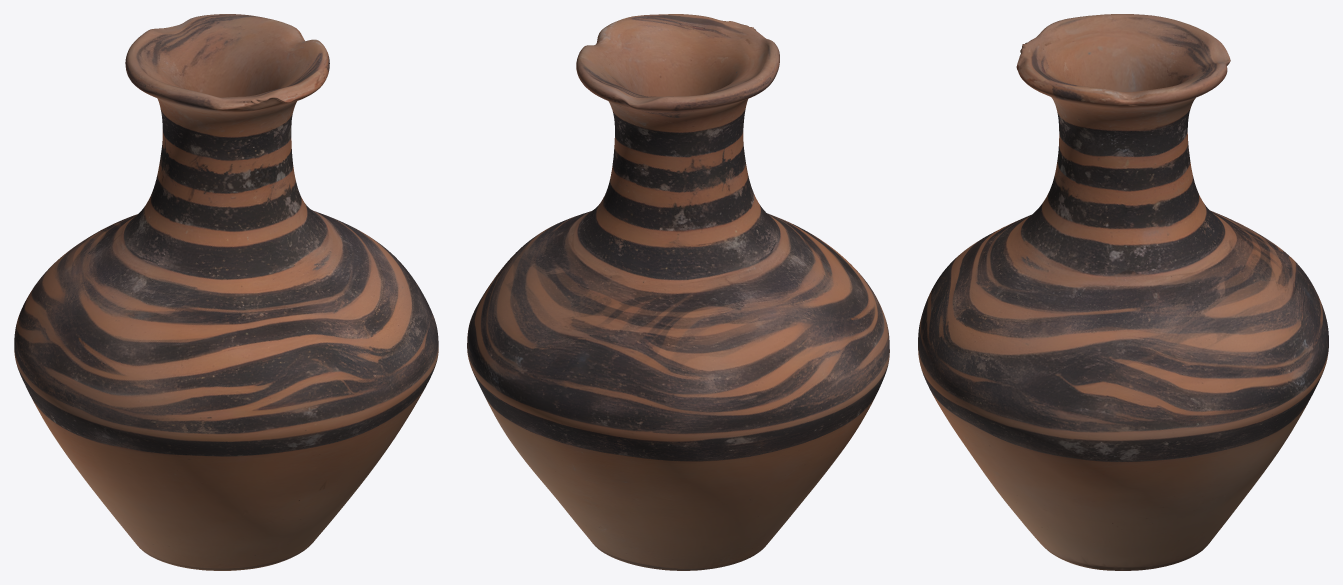
Rendered from shuibowencaitaopingB.glb.
3 renders of one model, left to right at view 1: azimuth 30°, elevation 25°; view 2: azimuth 150°, elevation 25°; view 3: azimuth 270°, elevation 25°, orthographic.
Parts seen in each view (by area): view 1: node_0; view 2: node_0; view 3: node_0.
Boxes of the visible parts, x1,y1,x2,y2 form: node_0: [14, 14, 438, 570]; node_0: [467, 14, 889, 570]; node_0: [918, 14, 1328, 570].
Bounding box in the file's own units: 0.895 × 1.12 × 0.8673.
1 material, 1 textured.
